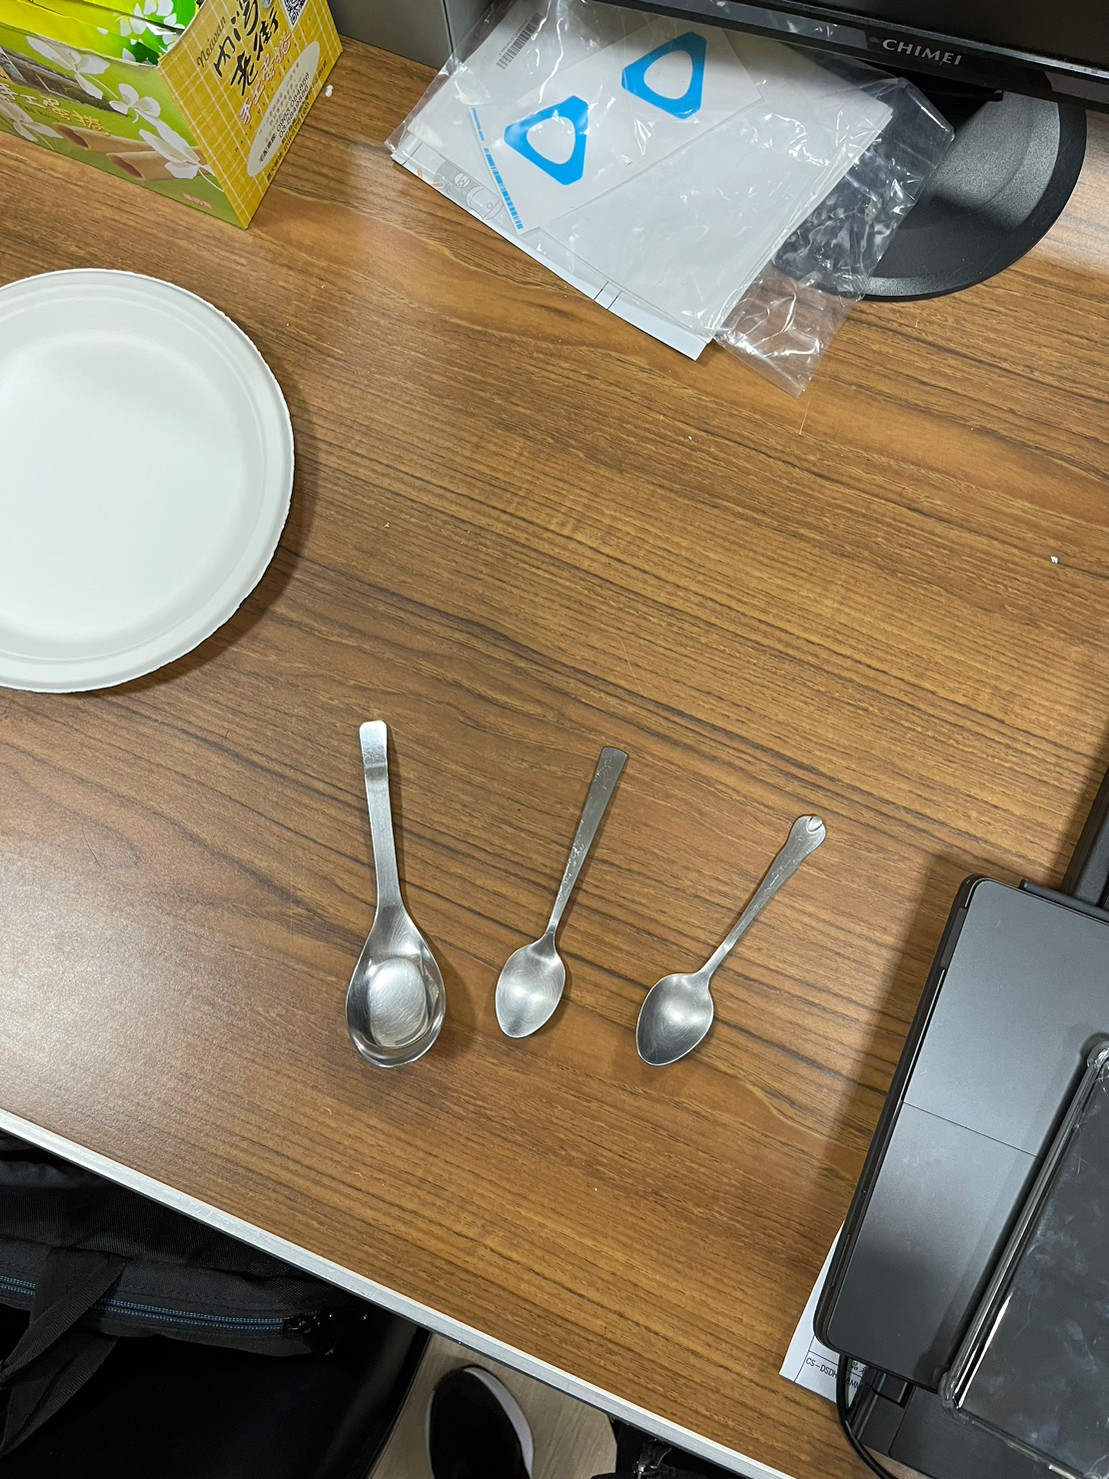spoon: (643, 800, 836, 1082), (487, 712, 640, 1056), (325, 707, 461, 1082)
